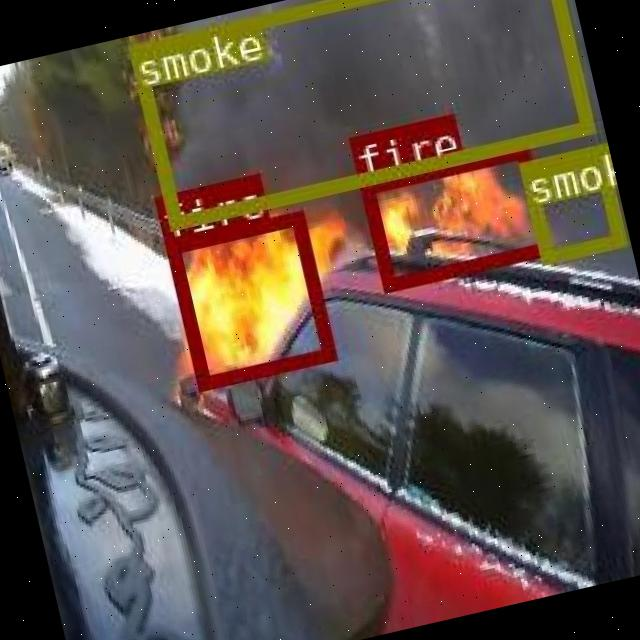fire: (164, 210, 334, 388), (358, 143, 548, 289)
smoke: (125, 0, 591, 228), (518, 142, 624, 262)
